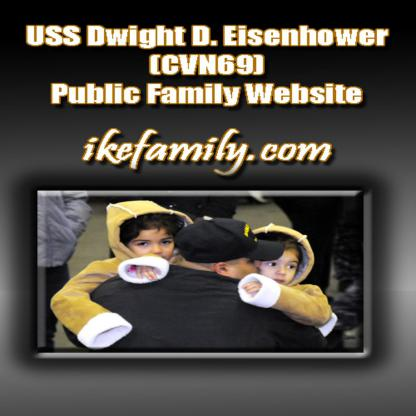face: (252, 244, 301, 288), (129, 227, 176, 265), (229, 239, 262, 285)
